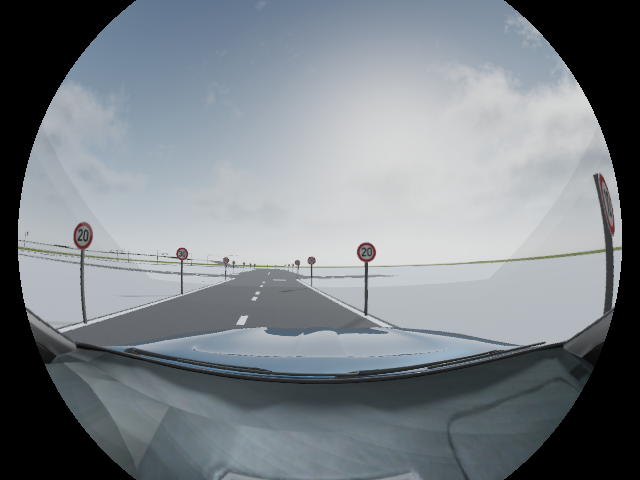Speed Limit 20: (73, 222, 92, 249), (358, 242, 376, 262)
